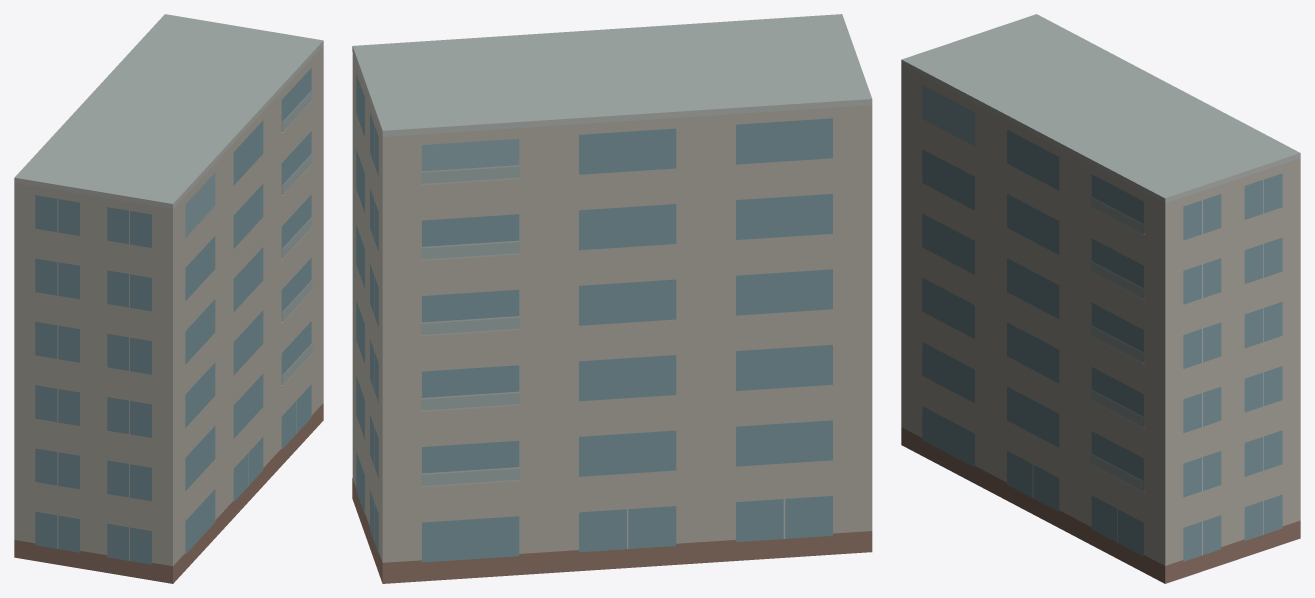
Rendered from survey-upis-32735210.glb.
The picture shows the model from 3 angles, left to right: view 1: azimuth 30°, elevation 25°; view 2: azimuth 150°, elevation 25°; view 3: azimuth 270°, elevation 25°; orthographic projection. The views are drawn at different scales.
Visible parts, largest first — view 1: survey-upis-32735210.tmp; view 2: survey-upis-32735210.tmp; view 3: survey-upis-32735210.tmp.
Boxes of the visible parts, x1,y1,x2,y2 form: survey-upis-32735210.tmp: [14, 14, 323, 583]; survey-upis-32735210.tmp: [352, 14, 872, 583]; survey-upis-32735210.tmp: [901, 14, 1300, 583].
Size of the model in its own units: 18.79 by 18.3 by 17.18.
